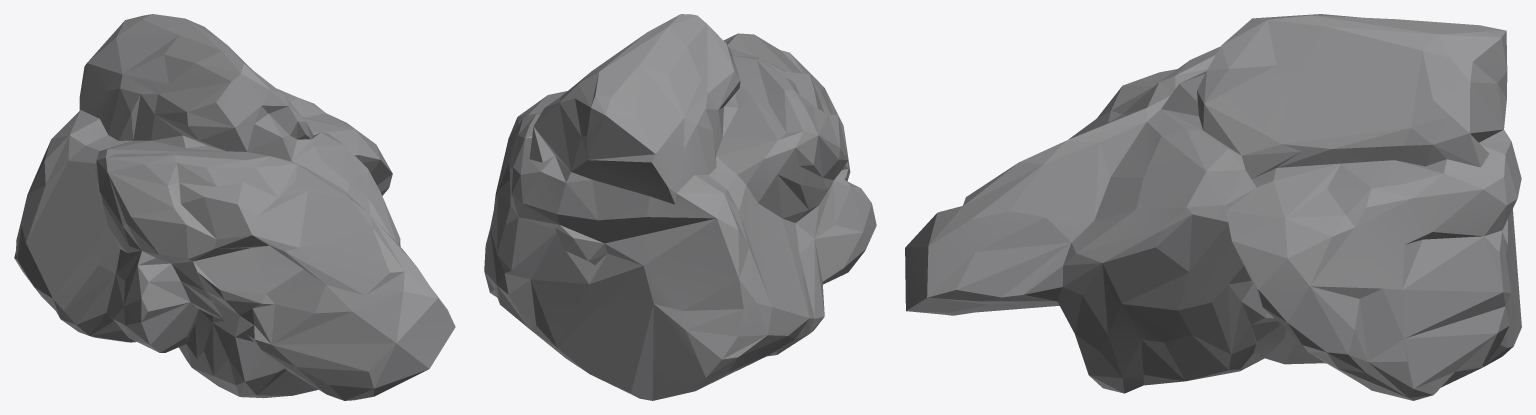
Rendered from Env_Rock_03.fbx.
3 views of the same model, side by side, from view 1: azimuth 30°, elevation 25°; view 2: azimuth 150°, elevation 25°; view 3: azimuth 270°, elevation 25° (orthographic). The views are drawn at different scales.
Parts seen in each view (by area): view 1: Rock_03; view 2: Rock_03; view 3: Rock_03.
Boxes of the visible parts, <box> form: Rock_03: <box>14,14,455,400</box>; Rock_03: <box>484,14,876,400</box>; Rock_03: <box>905,14,1521,400</box>.
Size of the model in its own units: 484 by 436 by 671.
